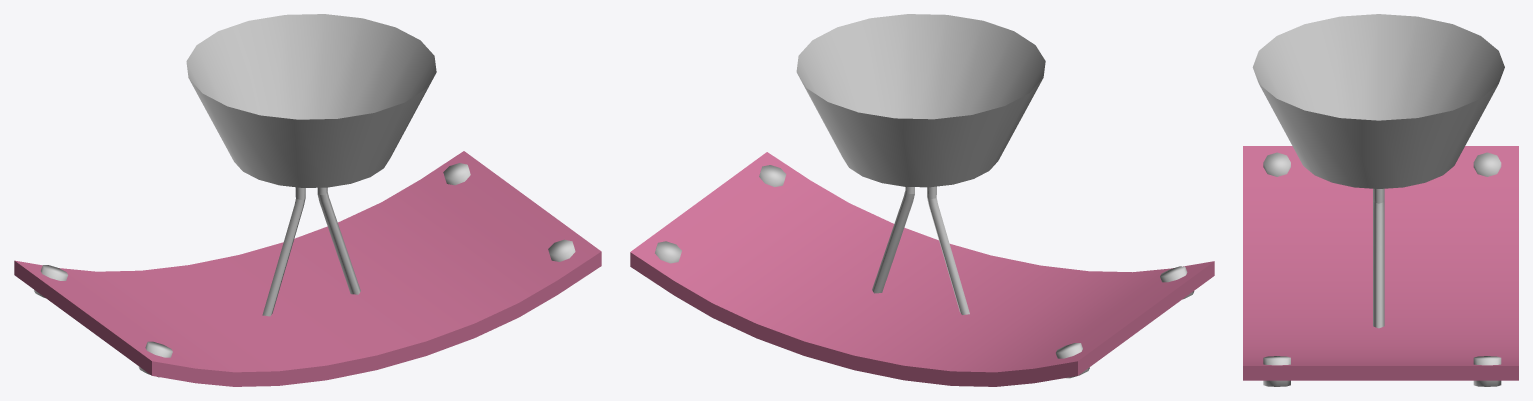
The model's file is ceiling_light2.fbx.
3 renders of one model, left to right at view 1: azimuth 30°, elevation 25°; view 2: azimuth 150°, elevation 25°; view 3: azimuth 270°, elevation 25°, orthographic.
Parts seen in each view (by area): view 1: Cylinder.002; view 2: Cylinder.002; view 3: Cylinder.002.
Part boxes in pixels (left/top/right/bottom): Cylinder.002: left=14, top=14, right=601, bottom=386; Cylinder.002: left=630, top=14, right=1214, bottom=386; Cylinder.002: left=1243, top=14, right=1518, bottom=386.
Size of the model in its own units: 14981 by 8060 by 7934.
